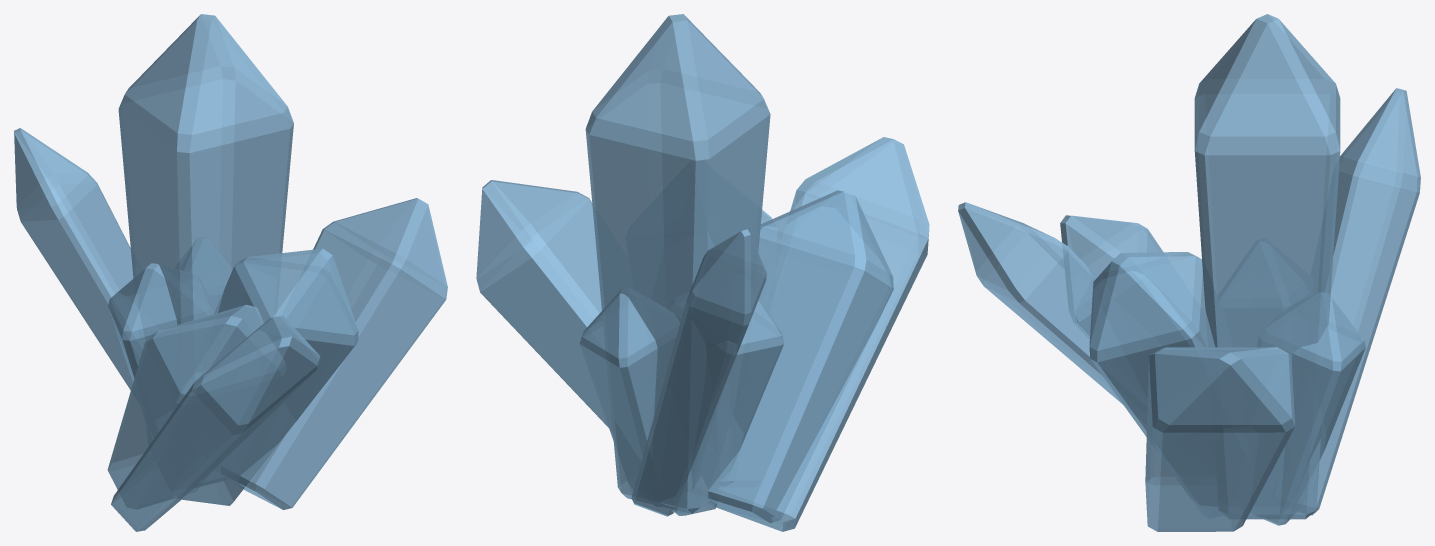
Rendered from Crystal8.glb.
The picture shows the model from 3 angles, left to right: view 1: azimuth 30°, elevation 25°; view 2: azimuth 150°, elevation 25°; view 3: azimuth 270°, elevation 25°; orthographic projection. The views are drawn at different scales.
Visible parts, largest first — view 1: Crystal.001; view 2: Crystal.001; view 3: Crystal.001.
Part boxes in pixels (<box>): Crystal.001: <box>14,14,447,531</box>; Crystal.001: <box>476,14,929,531</box>; Crystal.001: <box>958,14,1420,531</box>.
Bounding box in the file's own units: 1.31 × 1.8 × 1.47.
